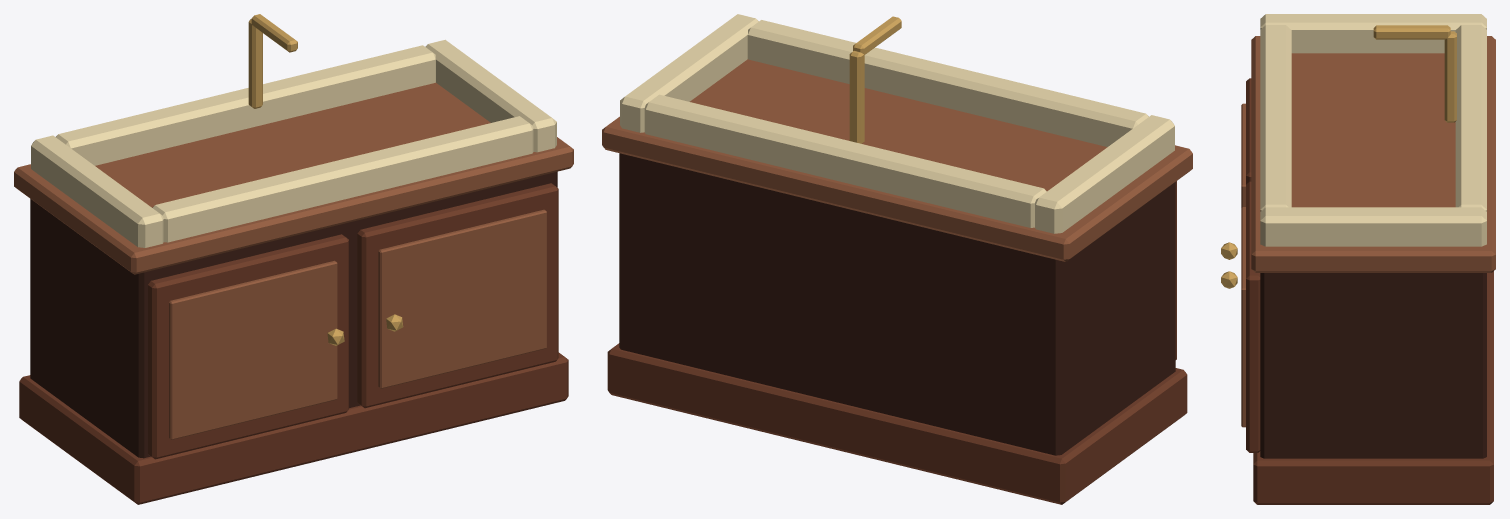
File: sink_03.glb
The picture shows the model from 3 angles, left to right: view 1: azimuth 30°, elevation 25°; view 2: azimuth 150°, elevation 25°; view 3: azimuth 270°, elevation 25°; orthographic projection. The views are drawn at different scales.
Parts seen in each view (by area): view 1: Base, Base_Top, Base_Body, Base_Plinth, RimY, RimY_001, RimX, RimX_001, TapStem, TapNeck; view 2: Base_Body, Base_Top, Base_Plinth, RimY_001, RimY, RimX, RimX_001, TapStem, TapNeck; view 3: Base_Body, Base_Top, Base_Plinth, RimX_001, RimX, RimY, Base, RimY_001, TapStem, TapNeck.
Boxes of the visible parts, bbox=[...] form: Base: bbox=[148, 183, 558, 459]; Base_Top: bbox=[14, 82, 573, 274]; Base_Body: bbox=[30, 171, 557, 458]; Base_Plinth: bbox=[19, 352, 568, 504]; RimY: bbox=[152, 116, 533, 242]; RimY_001: bbox=[56, 45, 435, 165]; RimX: bbox=[31, 135, 163, 247]; RimX_001: bbox=[425, 39, 556, 152]; TapStem: bbox=[248, 18, 262, 108]; TapNeck: bbox=[251, 14, 297, 52]; Base_Body: bbox=[619, 153, 1175, 455]; Base_Top: bbox=[602, 59, 1192, 261]; Base_Plinth: bbox=[607, 343, 1187, 504]; RimY_001: bbox=[644, 94, 1046, 227]; RimY: bbox=[747, 20, 1148, 146]; RimX: bbox=[1035, 115, 1174, 233]; RimX_001: bbox=[620, 14, 758, 132]; TapStem: bbox=[849, 51, 864, 143]; TapNeck: bbox=[853, 16, 901, 54]; Base_Body: bbox=[1260, 273, 1486, 458]; Base_Top: bbox=[1251, 36, 1495, 272]; Base_Plinth: bbox=[1253, 271, 1493, 504]; RimX_001: bbox=[1260, 207, 1486, 246]; RimX: bbox=[1260, 14, 1486, 53]; RimY: bbox=[1260, 25, 1291, 211]; Base: bbox=[1221, 78, 1260, 452]; RimY_001: bbox=[1455, 25, 1486, 211]; TapStem: bbox=[1444, 31, 1456, 122]; TapNeck: bbox=[1373, 25, 1450, 39].
Size of the model in its own units: 1.48 by 1.18 by 0.7868.
